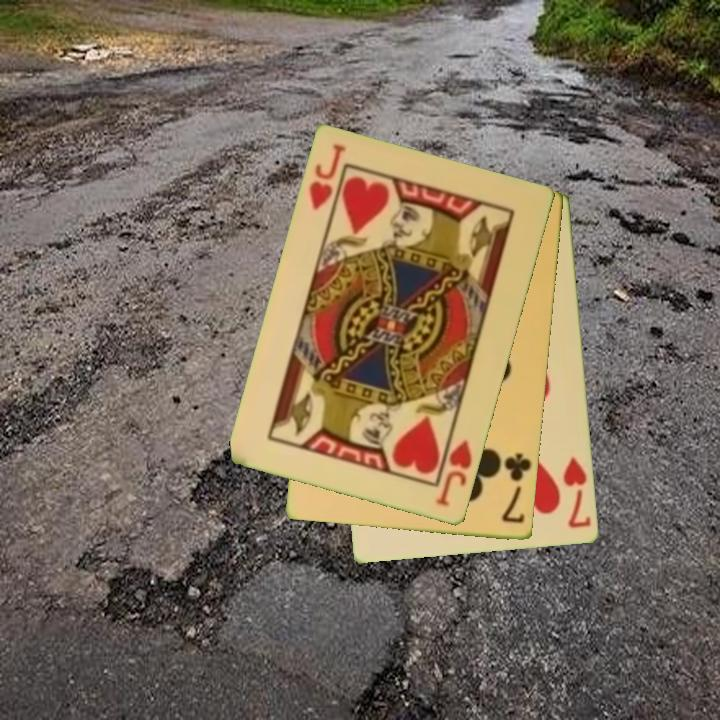7c: (499, 450, 534, 527)
7h: (560, 454, 594, 532)
Jh: (432, 437, 475, 510), (306, 141, 349, 214)
